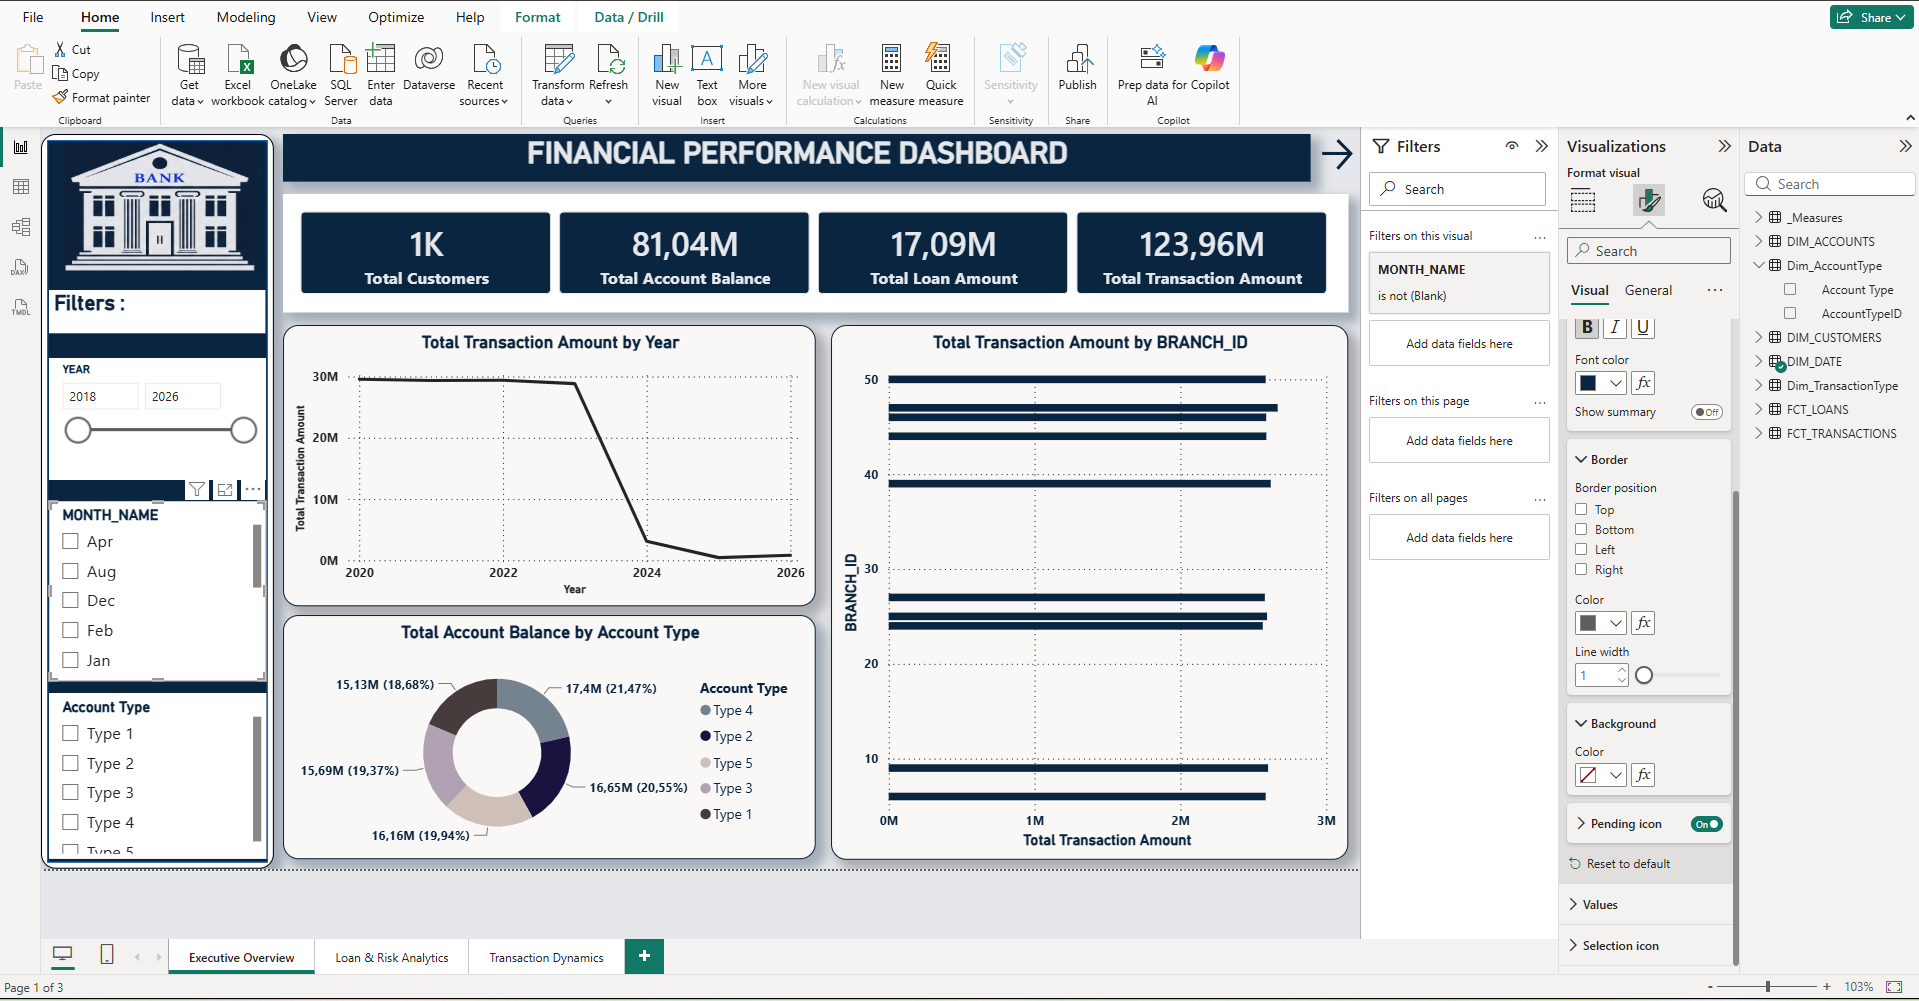

What the dashboard file says about the page in this screenshot:
{"tool":"powerbi","page":{"name":"Executive Overview","canvas":[1280,720],"ordinal":0},"visuals":[{"type":"shape","box":[0,6.7,226.1,713.1],"z":0},{"type":"textbox","title":"FINANCIAL PERFORMANCE DASHBOARD","box":[234.8,6.8,996.6,45.6],"z":1000},{"type":"image","box":[22.3,15.5,188.3,125.2],"z":2000},{"type":"cardVisual","fields":{"Data":["_Measures.Total Customers","_Measures.Total Account Balance","_Measures.Total Loan Amount","_Measures.Total Transaction Amount"]},"box":[235.1,65.2,1033.7,114.7],"z":3000},{"type":"lineChart","fields":{"Category":["DIM_DATE.FULL_DATE.Variation.Date Hierarchy.Year","DIM_DATE.FULL_DATE.Variation.Date Hierarchy.Quarter","DIM_DATE.FULL_DATE.Variation.Date Hierarchy.Month","DIM_DATE.FULL_DATE.Variation.Date Hierarchy.Day"],"Y":["_Measures.Total Transaction Amount"]},"box":[235.1,192.3,517.4,273.3],"z":4000},{"type":"donutChart","fields":{"Category":["Dim_AccountType.Account Type"],"Y":["_Measures.Total Account Balance"]},"box":[235.1,473.5,517.4,237.3],"z":5000},{"type":"clusteredBarChart","fields":{"Category":["FCT_TRANSACTIONS.BRANCH_ID"],"Y":["_Measures.Total Transaction Amount"]},"box":[767.1,192.3,501.7,518.5],"z":6000},{"type":"slicer","fields":{"Values":["DIM_DATE.YEAR"]},"box":[7.8,224.2,210.3,118.1],"z":7000},{"type":"slicer","fields":{"Values":["DIM_DATE.MONTH_NAME"]},"box":[7.9,363.3,210.3,347.6],"z":8000},{"type":"textbox","title":"Filters :","box":[7.8,158.2,210.3,41.6],"z":9000},{"type":"actionButton","box":[1237.3,6.8,42.7,39.8],"z":10000}]}

Visuals, with their boxes on the page's 1280x720 design canvas (x1, y1, x2, y2). These are canvas units, not pixel positions in the 1919x1001 screenshot, which may show the page scaled, cropped or inside an application window:
shape: bbox=(0, 7, 226, 720)
"FINANCIAL PERFORMANCE DASHBOARD" textbox: bbox=(235, 7, 1231, 52)
image: bbox=(22, 16, 211, 141)
cardVisual - _Measures.Total Customers x _Measures.Total Account Balance: bbox=(235, 65, 1269, 180)
lineChart - DIM_DATE.FULL_DATE.Variation.Date Hierarchy.Year x DIM_DATE.FULL_DATE.Variation.Date Hierarchy.Quarter: bbox=(235, 192, 752, 466)
donutChart - Dim_AccountType.Account Type x _Measures.Total Account Balance: bbox=(235, 474, 752, 711)
clusteredBarChart - FCT_TRANSACTIONS.BRANCH_ID x _Measures.Total Transaction Amount: bbox=(767, 192, 1269, 711)
slicer - DIM_DATE.YEAR: bbox=(8, 224, 218, 342)
slicer - DIM_DATE.MONTH_NAME: bbox=(8, 363, 218, 711)
"Filters :" textbox: bbox=(8, 158, 218, 200)
actionButton: bbox=(1237, 7, 1280, 47)
